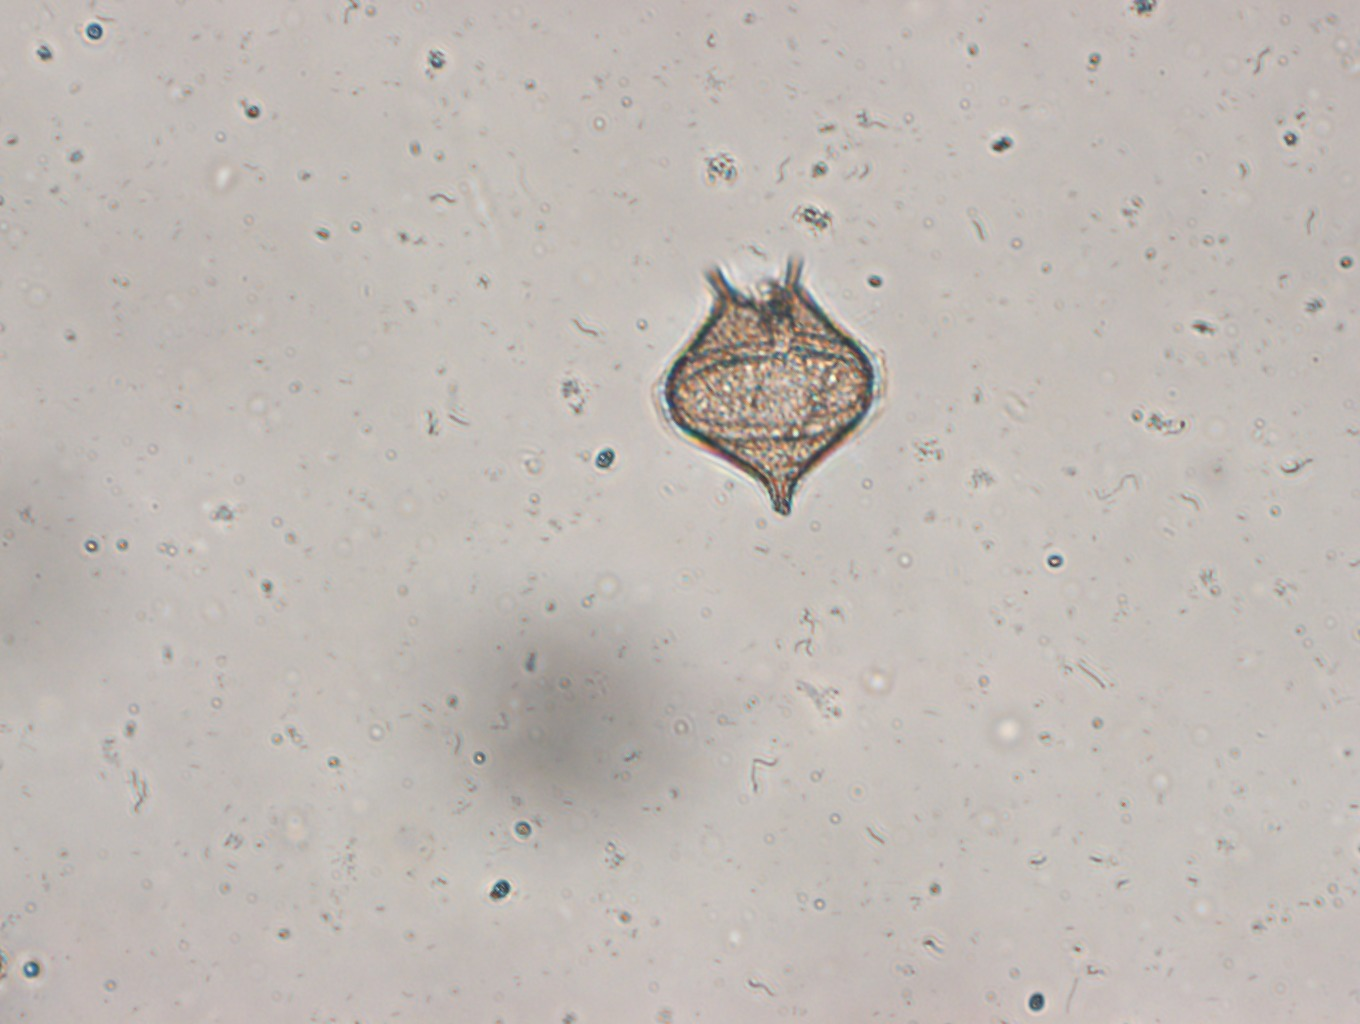protoperidinium: (645, 250, 894, 524)
